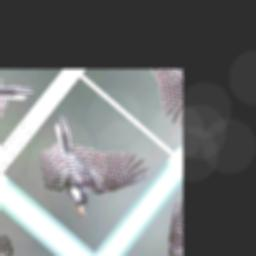Woodpecker: (17, 95, 159, 240)
